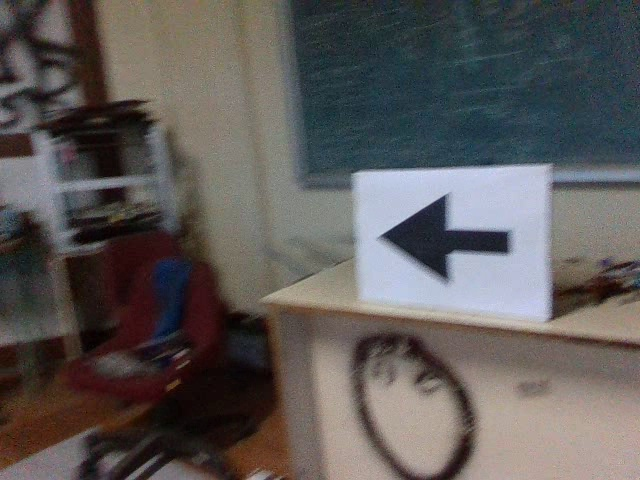Left: (371, 188, 519, 290)
